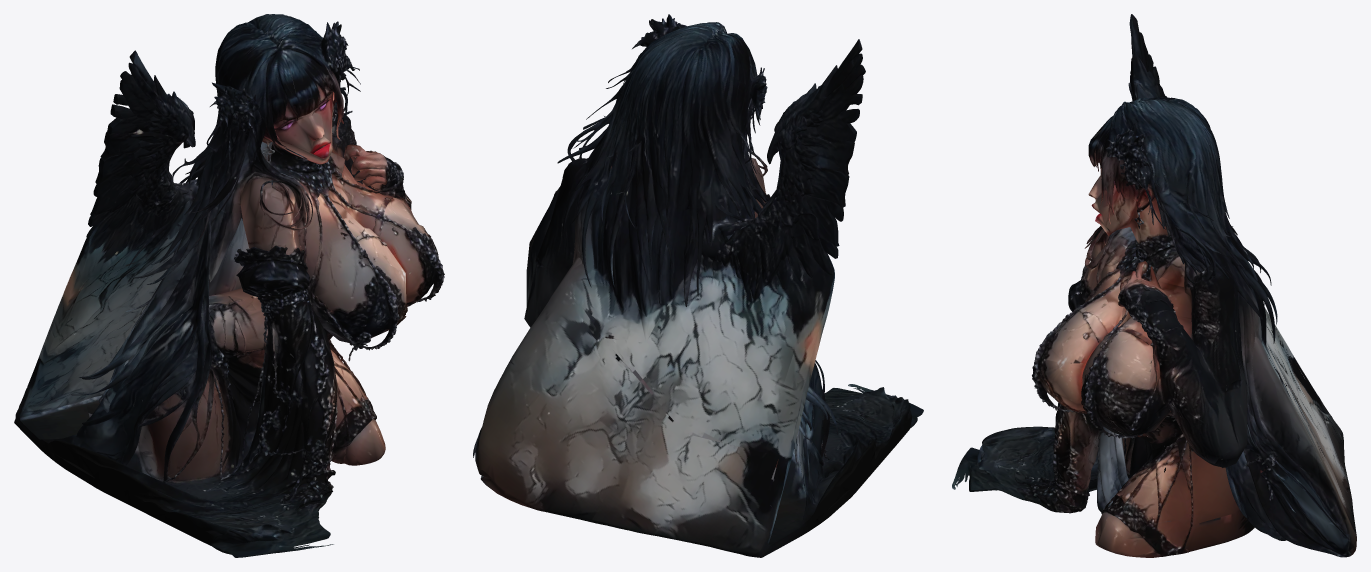
File: 01a19d9d-dde5-723d-bee7-0fdd9d80ac67.glb
The picture shows the model from 3 angles, left to right: view 1: azimuth 30°, elevation 25°; view 2: azimuth 150°, elevation 25°; view 3: azimuth 270°, elevation 25°; orthographic projection. The views are drawn at different scales.
Visible parts, largest first — view 1: model; view 2: model; view 3: model.
Boxes of the visible parts, x1,y1,x2,y2 form: model: (14, 14, 444, 557); model: (473, 14, 923, 557); model: (952, 14, 1356, 557).
Bounding box in the file's own units: 1.42 × 1.91 × 1.61.
Materials: 1 (1 with a texture image).
